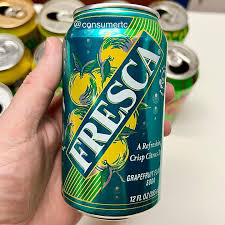Soda Can: (58, 4, 172, 220)
